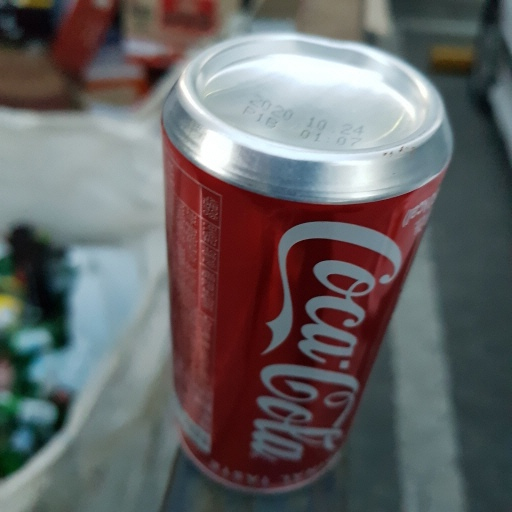Metal_0: (162, 35, 454, 496)
